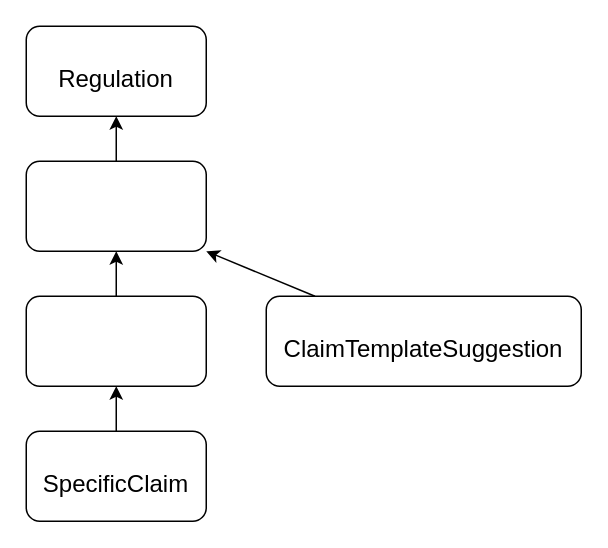
Image size: 608x548. Some labels were removed from this diagram. The centre of each missing label's shape, as x and y in pixels:
"ClaimTemplate" belongs at (115,340).
"Rule" belongs at (115,205).
